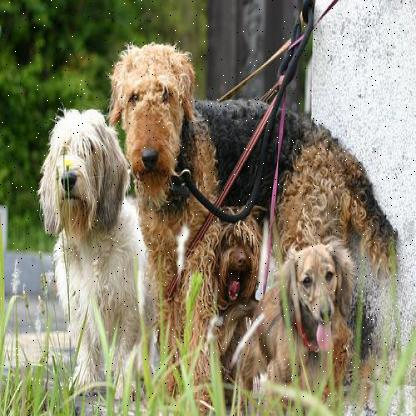dog: (112, 47, 377, 415), (46, 105, 135, 366), (261, 242, 350, 386), (222, 224, 251, 309)
